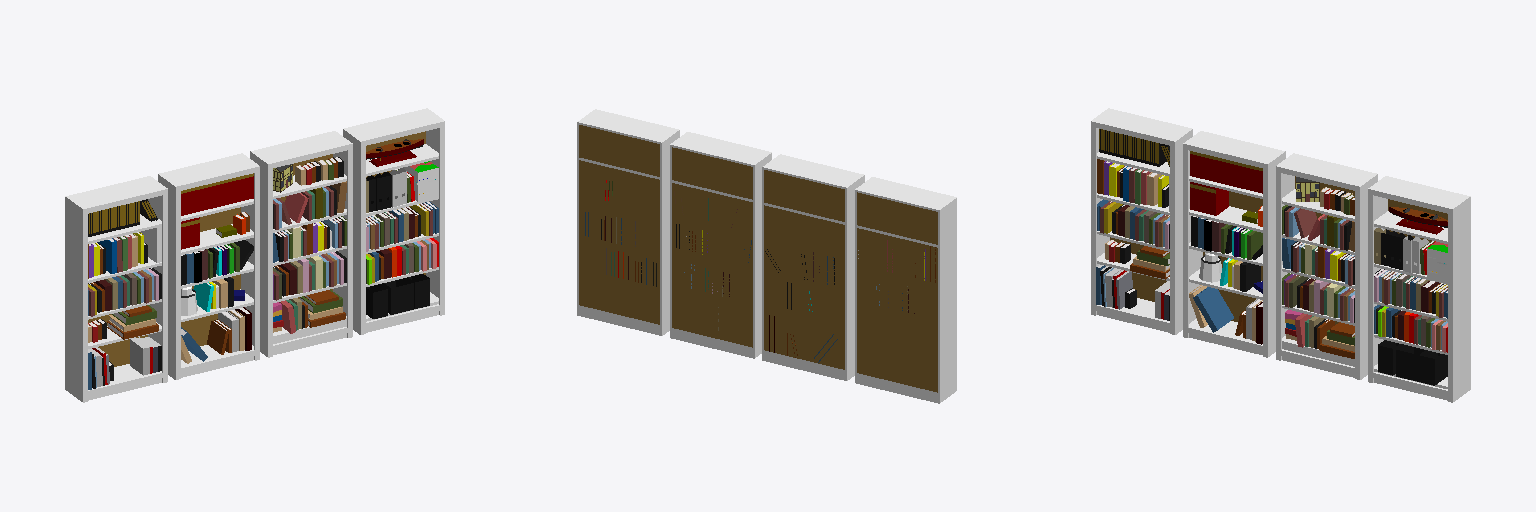
The picture shows the model from 3 angles: view 1: azimuth 30°, elevation 25°; view 2: azimuth 150°, elevation 25°; view 3: azimuth 330°, elevation 25°; orthographic projection.
Visible parts, largest first — view 1: Bookcase_003, Bookcase_001, Bookcase_004, Bookcase_002, Group_002, Group_001, Speed_Boat_001, Magazine_Stack_001, Shelf_001; view 2: Bookcase_003, Bookcase_001, Bookcase_002, Bookcase_004; view 3: Bookcase_004, Bookcase_001, Bookcase_003, Bookcase_002, Group_002, Group_001, book_1_007, Speed_Boat_001, Magazine_Stack_001, Shelf_001, Cookie_Jar_001, House_Half_001.
Part boxes in pixels (left/top/right/bottom): Bookcase_003: left=65, top=176, right=167, bottom=402; Bookcase_001: left=158, top=153, right=259, bottom=379; Bookcase_004: left=343, top=108, right=444, bottom=334; Bookcase_002: left=250, top=131, right=352, bottom=357; Group_002: left=366, top=274, right=429, bottom=318; Group_001: left=88, top=337, right=161, bottom=389; Speed_Boat_001: left=366, top=139, right=423, bottom=166; Magazine_Stack_001: left=403, top=161, right=438, bottom=201; Shelf_001: left=181, top=224, right=253, bottom=254; Bookcase_003: left=855, top=177, right=956, bottom=403; Bookcase_001: left=762, top=154, right=864, bottom=380; Bookcase_002: left=670, top=132, right=771, bottom=358; Bookcase_004: left=577, top=109, right=679, bottom=335; Bookcase_004: left=1368, top=176, right=1470, bottom=402; Bookcase_001: left=1183, top=131, right=1285, bottom=357; Bookcase_003: left=1091, top=108, right=1192, bottom=334; Bookcase_002: left=1276, top=153, right=1377, bottom=379; Group_002: left=1378, top=340, right=1447, bottom=385; Group_001: left=1096, top=265, right=1169, bottom=320; book_1_007: left=1193, top=287, right=1233, bottom=332; Speed_Boat_001: left=1389, top=207, right=1447, bottom=234; Magazine_Stack_001: left=1427, top=242, right=1447, bottom=282; Shelf_001: left=1189, top=206, right=1262, bottom=232; Cookie_Jar_001: left=1199, top=252, right=1221, bottom=282; House_Half_001: left=1296, top=177, right=1319, bottom=201.
Size of the model in its own units: 141 by 72 by 13.13.